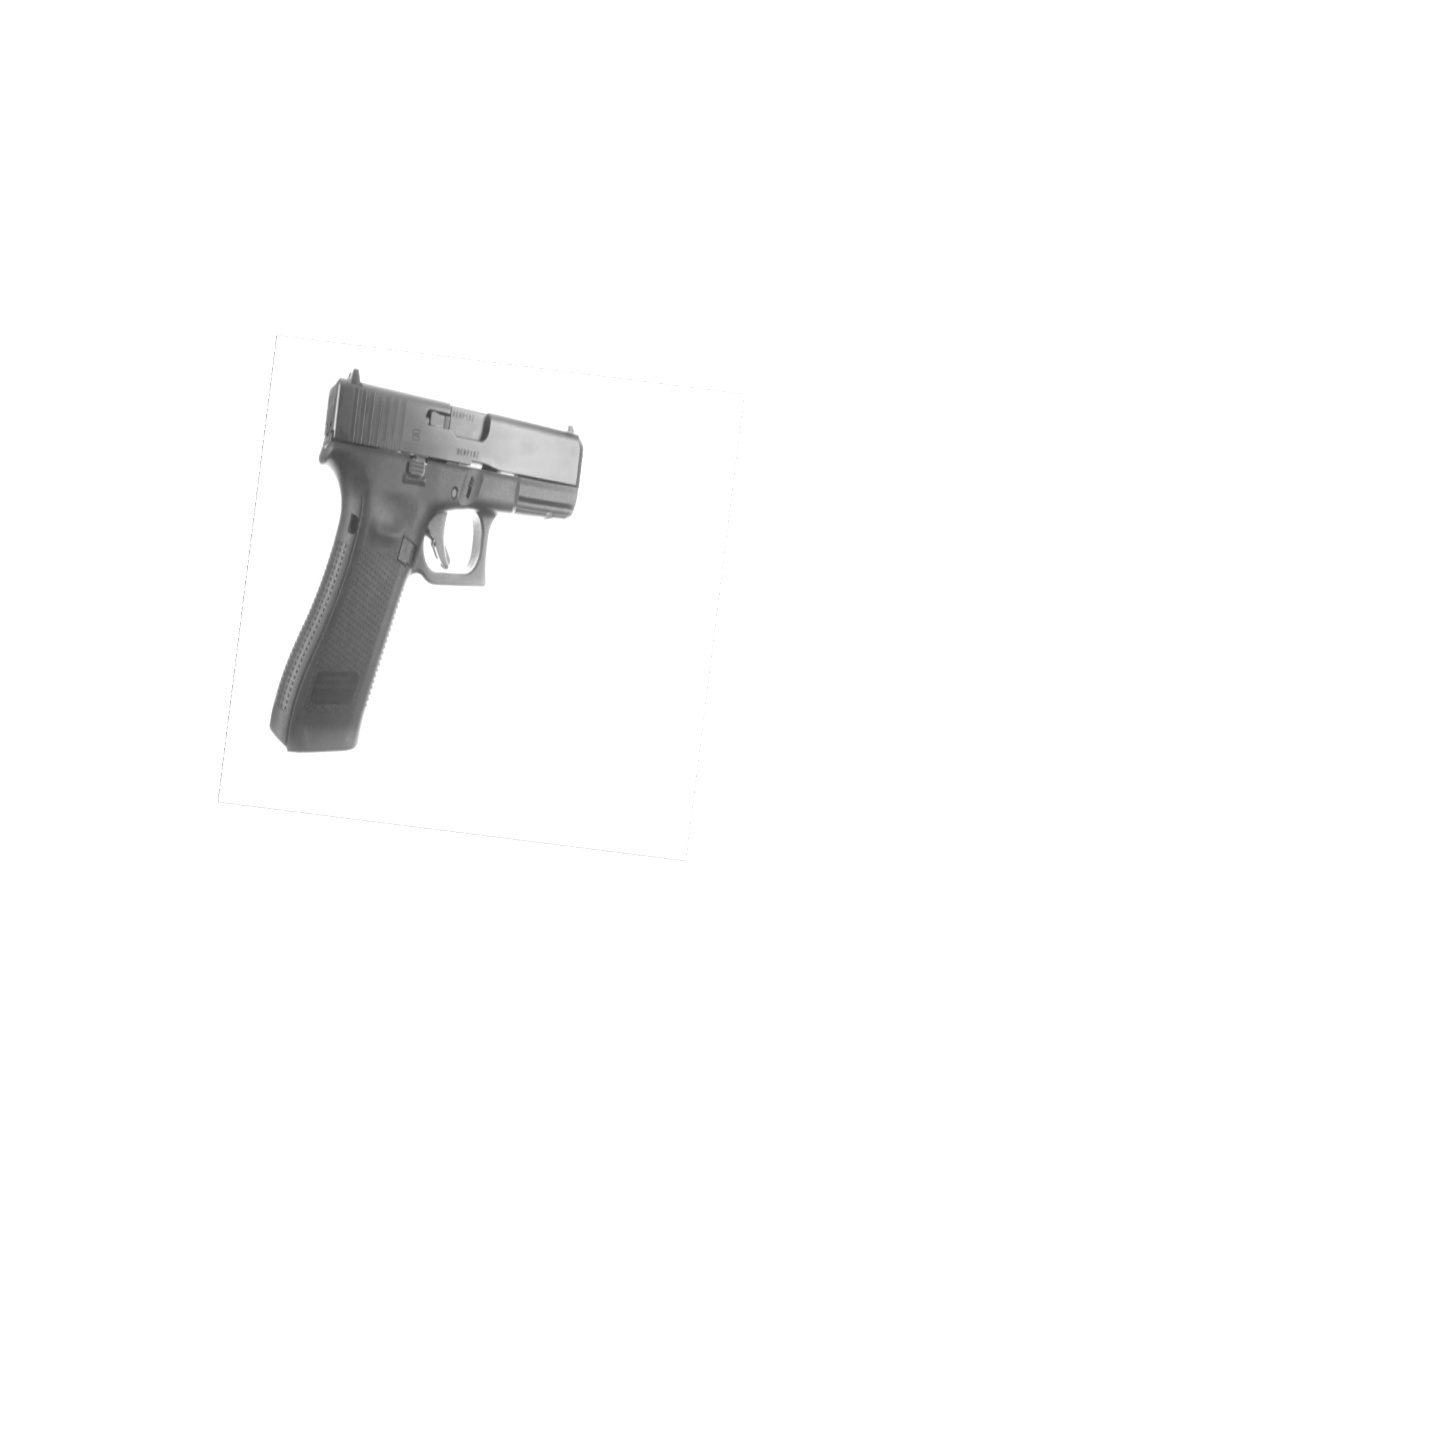gun: (267, 373, 582, 755)
